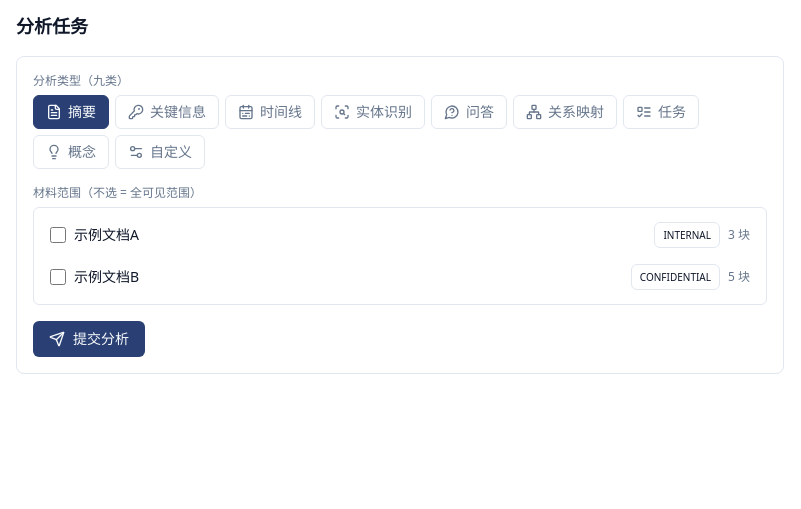
Test case: 提交参数组装 › qa 空问题提交 -> 前端校验拦截（不发 POST）
The width and height of the screenshot is (801, 509).
Expected: the checkbox labelled "示例文档A INTERNAL 3 块" is shown, [50,227,66,243]
Click the button "问答": (469, 112) [431,95,507,129]
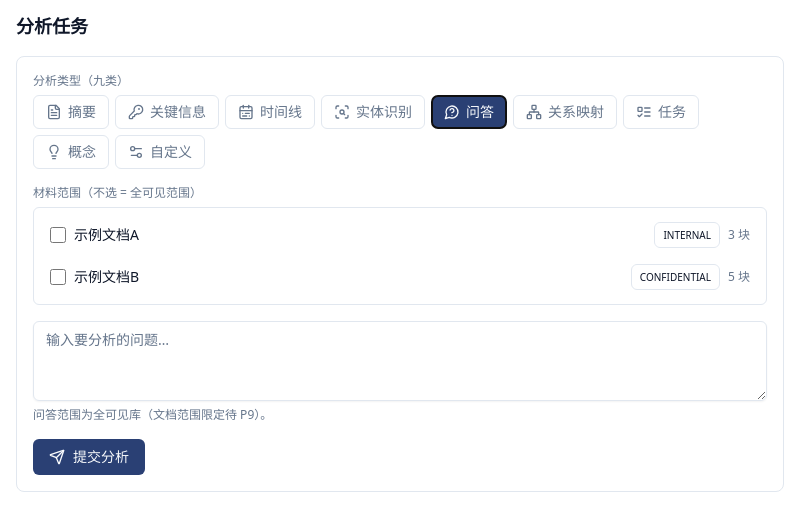
Click the button "提交分析": (89, 457) [33,439,145,475]
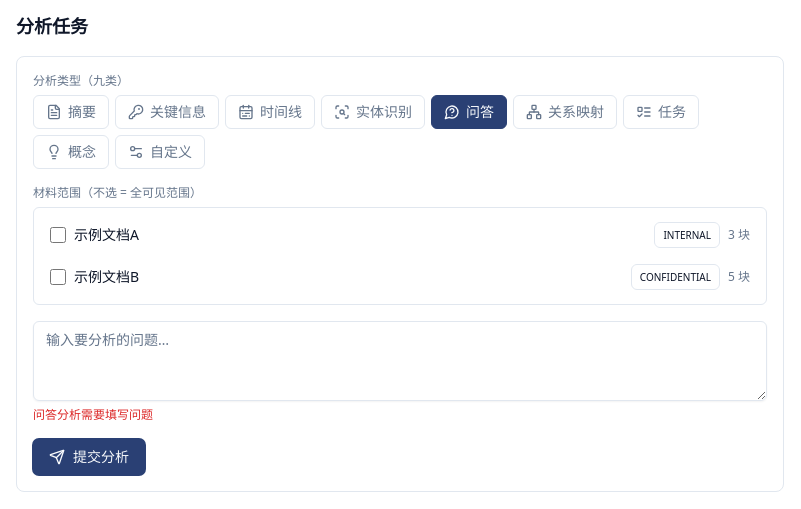
Now the text "问答分析需要填写问题" is shown, box [33,406,153,423]
